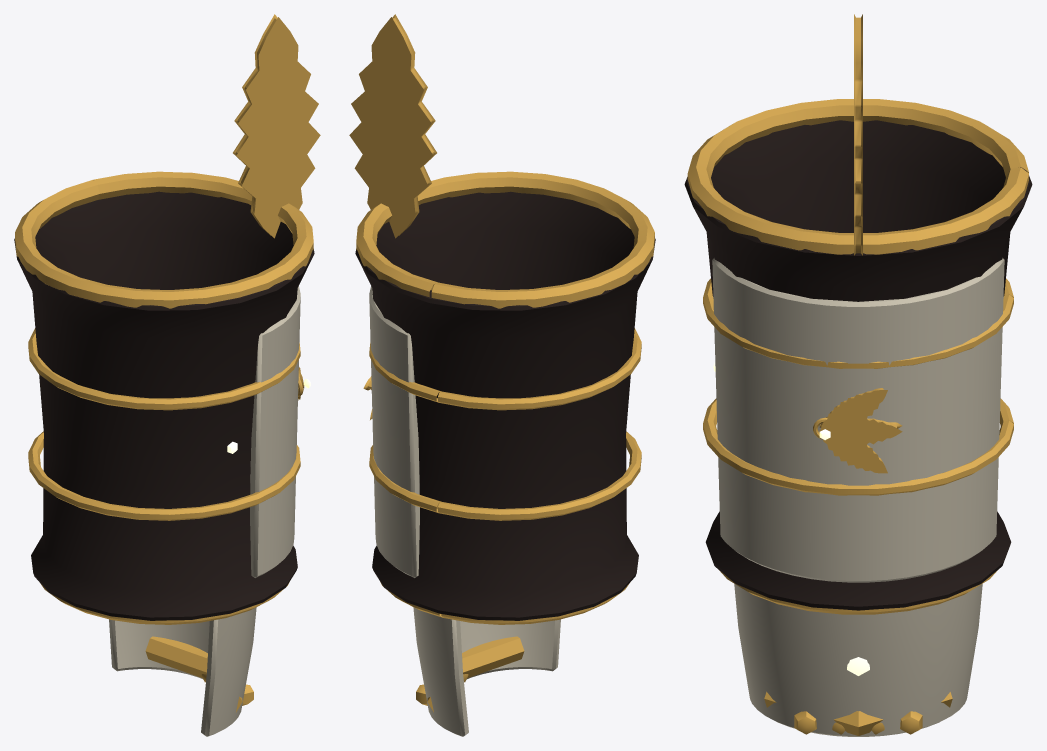
File: asc_penitent_talon_gloves.glb
3 renders of one model, left to right at view 1: azimuth 30°, elevation 25°; view 2: azimuth 150°, elevation 25°; view 3: azimuth 270°, elevation 25°, orthographic. The views are drawn at different scales.
Visible parts, largest first — view 1: asc_penitent_talon_gloves, AT_hand_L; view 2: asc_penitent_talon_gloves, AT_hand_L; view 3: asc_penitent_talon_gloves, AT_hand_L.
Boxes of the visible parts, left/top/right/bottom form: asc_penitent_talon_gloves: left=14, top=14, right=320, bottom=624; AT_hand_L: left=109, top=607, right=256, bottom=736; asc_penitent_talon_gloves: left=349, top=14, right=655, bottom=624; AT_hand_L: left=413, top=607, right=560, bottom=736; asc_penitent_talon_gloves: left=684, top=14, right=1032, bottom=614; AT_hand_L: left=734, top=584, right=982, bottom=736.
Bounding box in the file's own units: 0.2155 × 0.4777 × 0.2004.
